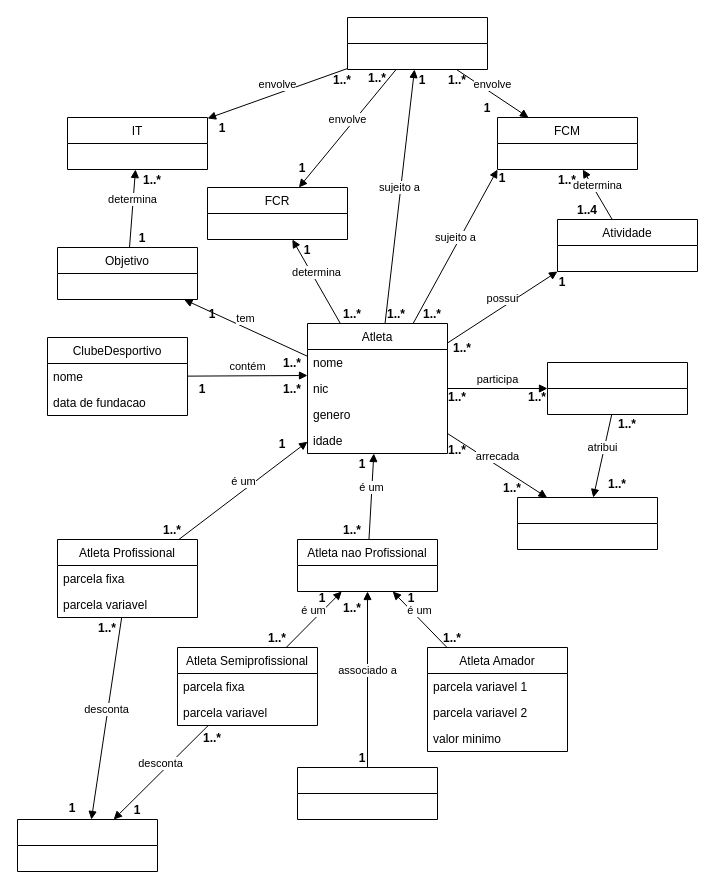
Image size: 715x889. Some labels were removed from this diagram. Here are the shapes that lost their labels. From the top down, the centre of each, then its label:
At (417,43): "FCT".
At (617,388): "Competicao".
At (587,523): "Premio".
At (367,793): "Antiguidade".
At (87,845): "IRS".
